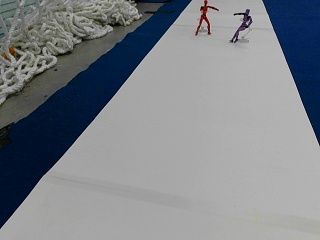pedestrian: (195, 1, 219, 35), (230, 7, 252, 41)
